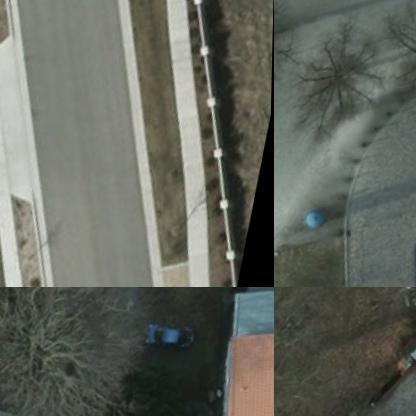car: (138, 316, 197, 356)
